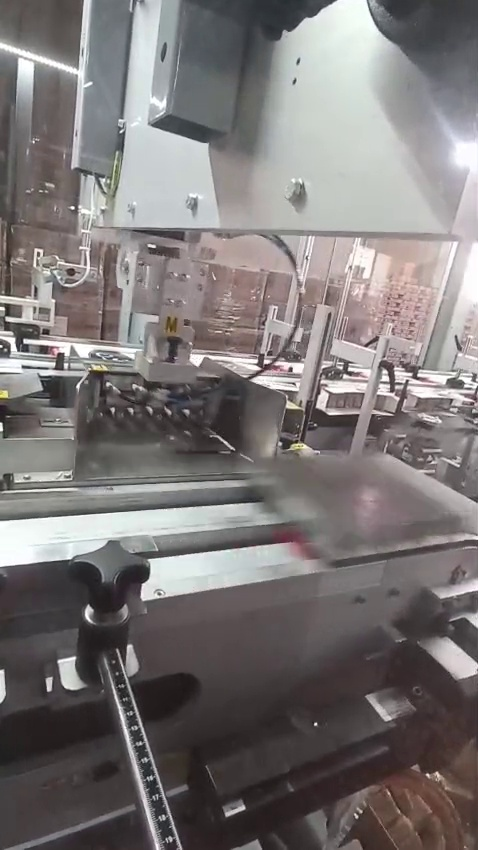savon: (383, 800, 452, 844), (432, 774, 466, 799), (162, 754, 188, 780), (460, 816, 478, 850), (163, 314, 181, 339), (288, 440, 306, 456), (0, 389, 10, 403)
